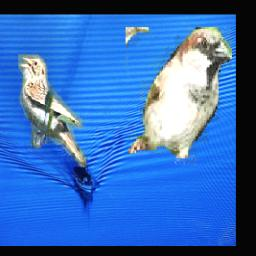Sparrow: (127, 27, 233, 183), (19, 55, 87, 168)
